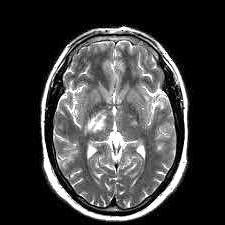Normal_Brain: (2, 4, 222, 225)
